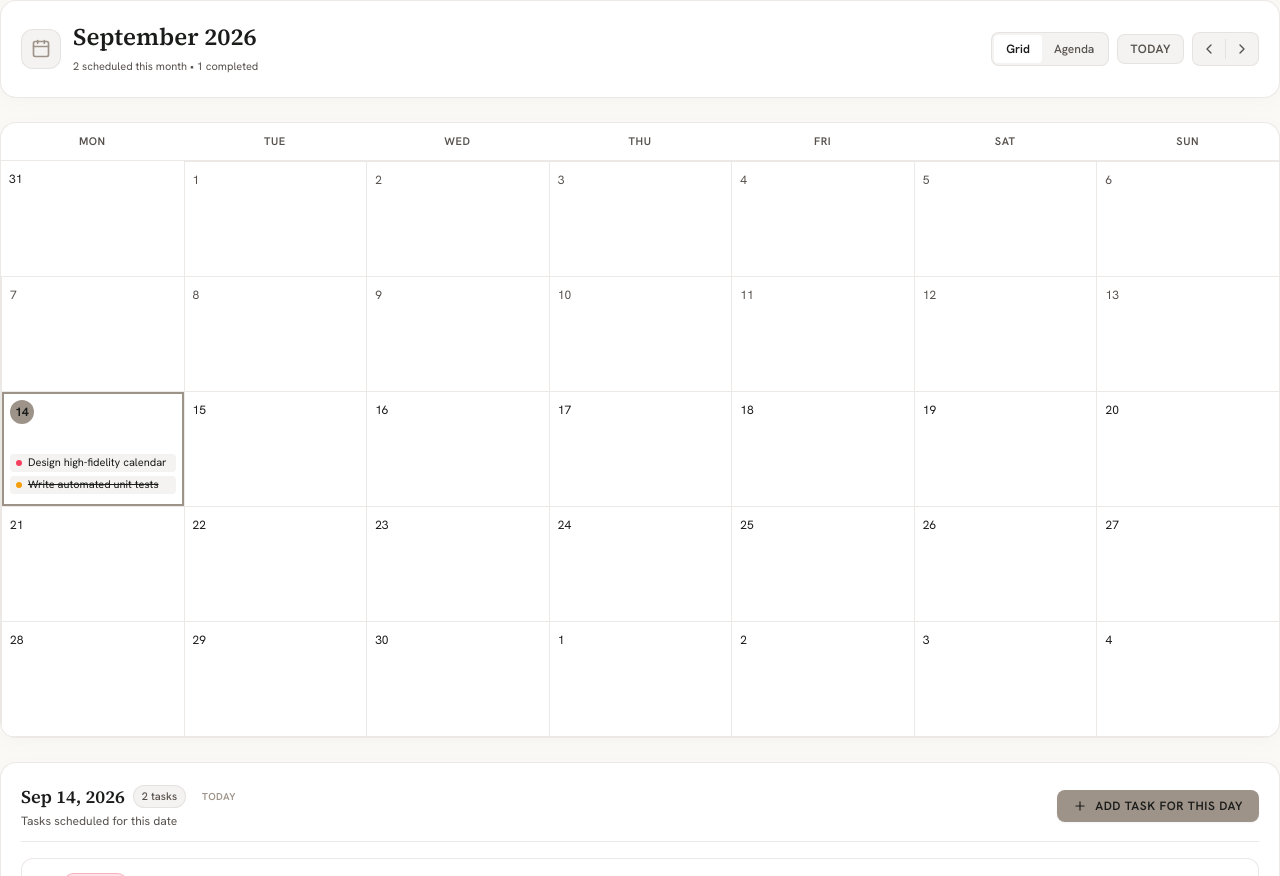
Test case: TaskCalendarView Component › disallows adding tasks on past dates and displays past date notice in inspector
Note: Click previous month to guarantee past dates
Click the button named "previous month".
click(1209, 49)  # box [1193,33,1225,65]
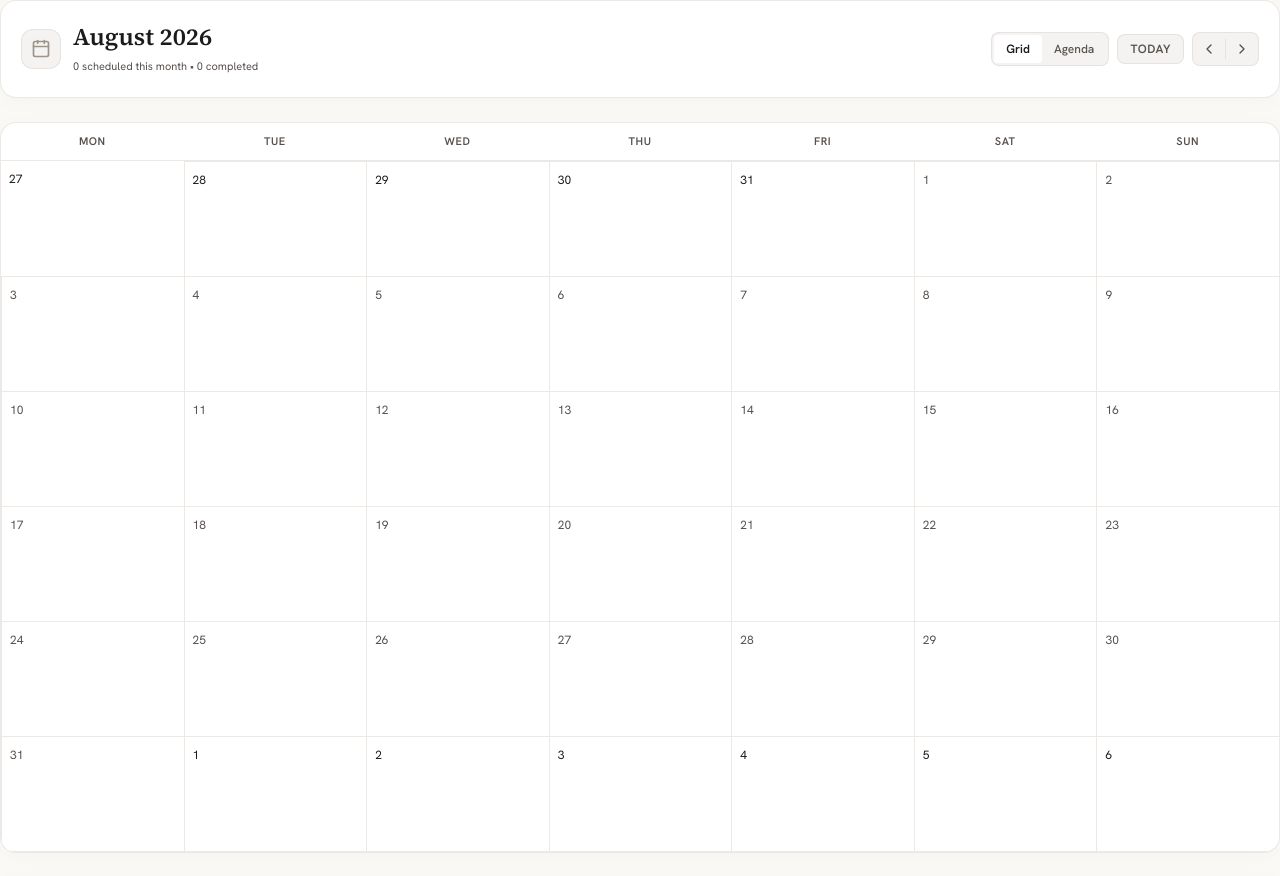
Click the 1st button "27".
click(16, 178)  # box [9,170,22,186]
(page scrolled)
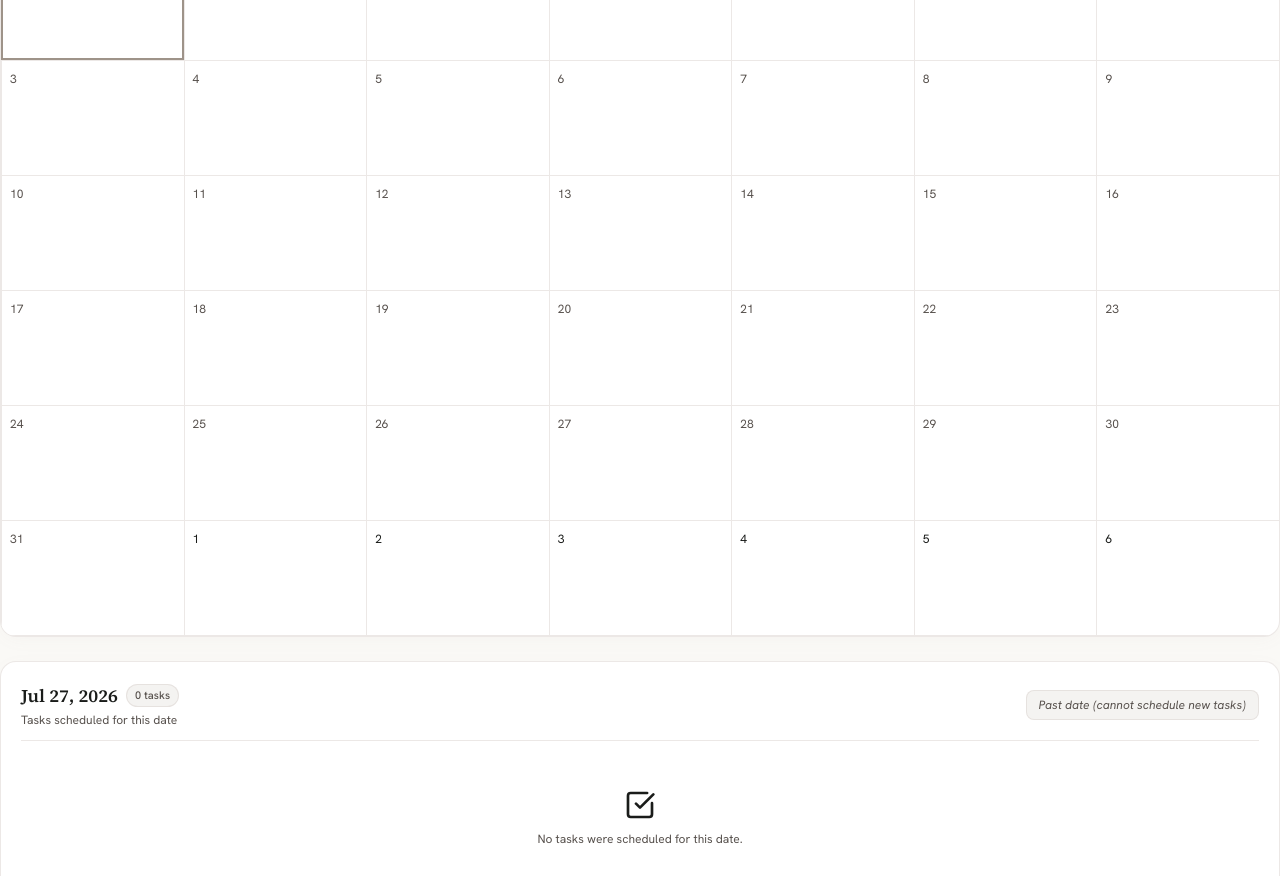
Expected: the text "Past date (cannot schedule new tasks)" is shown, [1026,690,1259,720]
